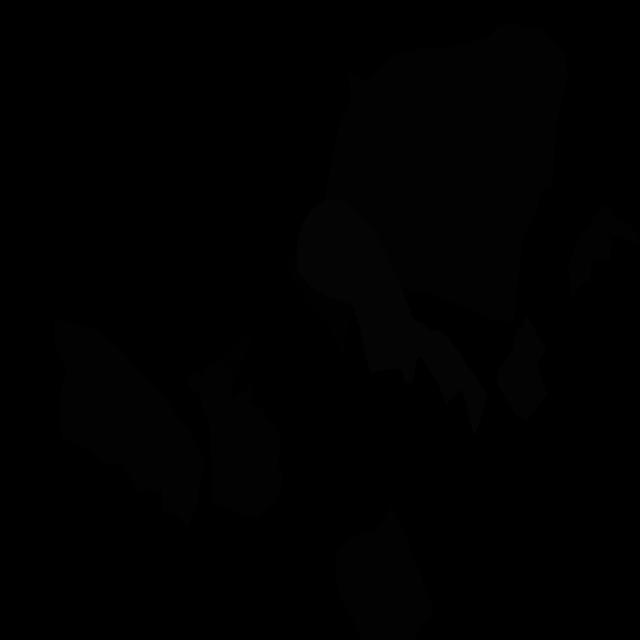cardboard: (324, 23, 568, 323), (54, 318, 205, 528), (187, 359, 284, 518), (335, 506, 432, 640), (567, 204, 640, 298)
metal: (496, 315, 547, 422)
rigid_plastic: (289, 244, 352, 359), (218, 330, 256, 386)
soft_plastic: (297, 199, 488, 436)
